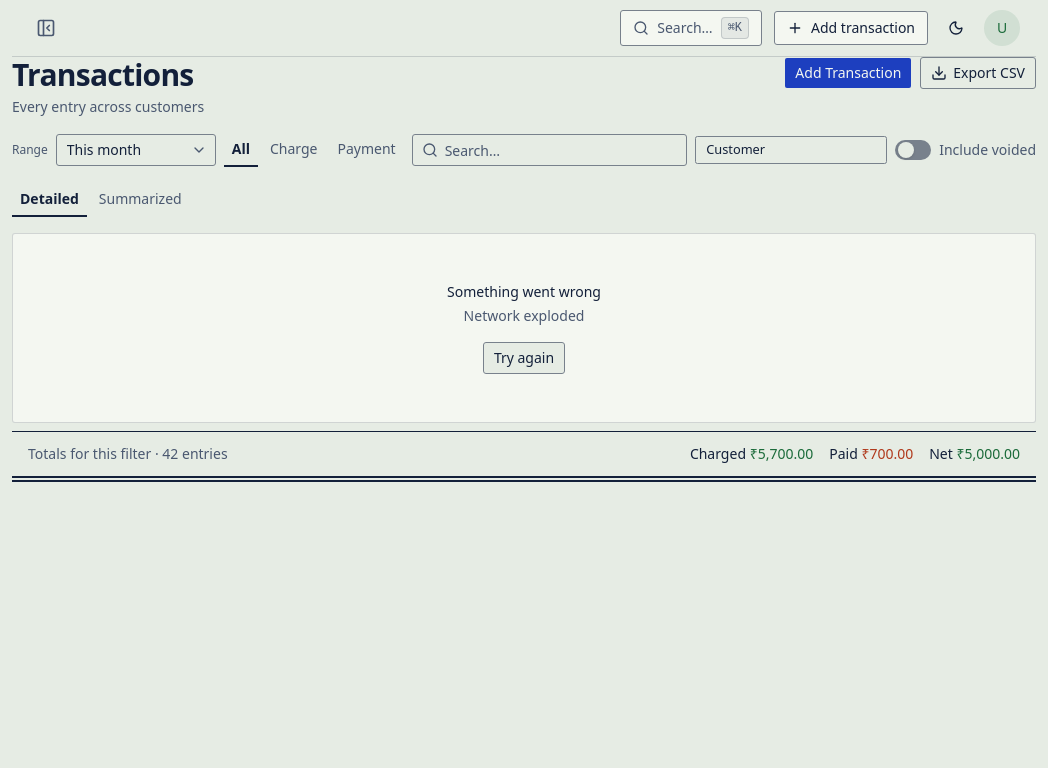
Test: S-35 transactions page v2 › a failed read shows the error state and Try again re-reads
Click the button "Try again" at coordinates (524, 358), box [483, 342, 565, 374]
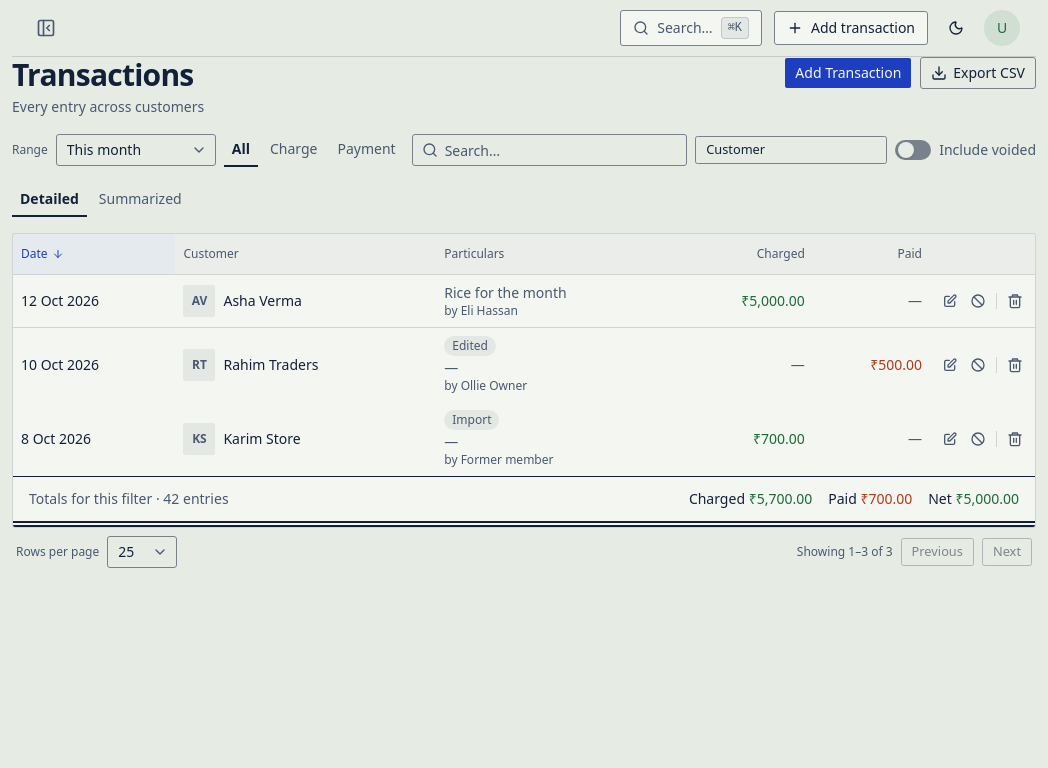
Check: the text "Asha Verma" is shown, box [223, 290, 302, 310]
